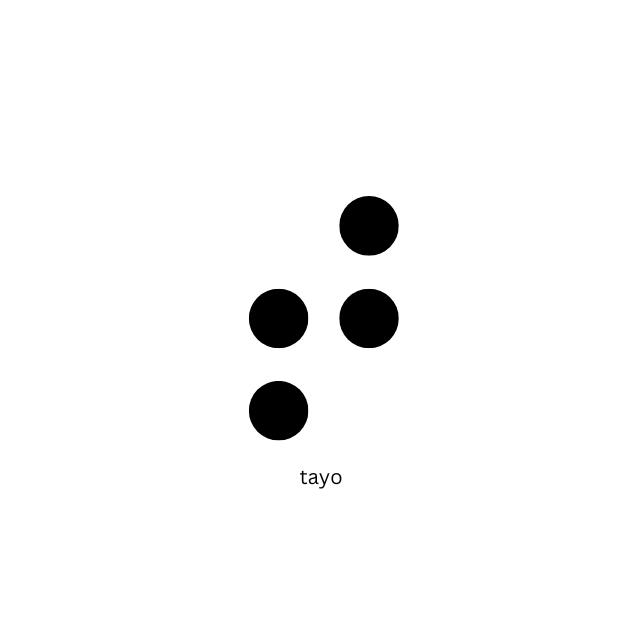one_cell_alphabet_tayo: (247, 193, 402, 443)
